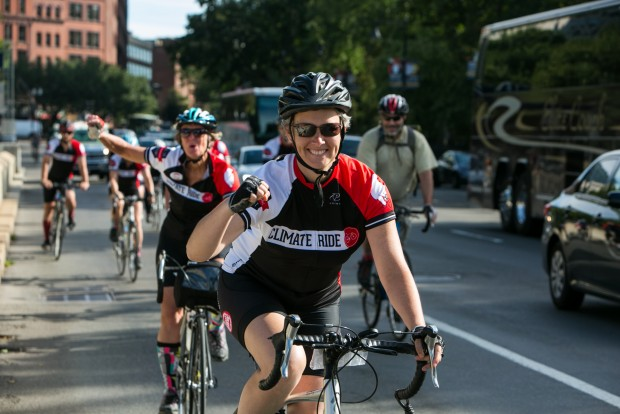with_helmet: (279, 72, 352, 116)
